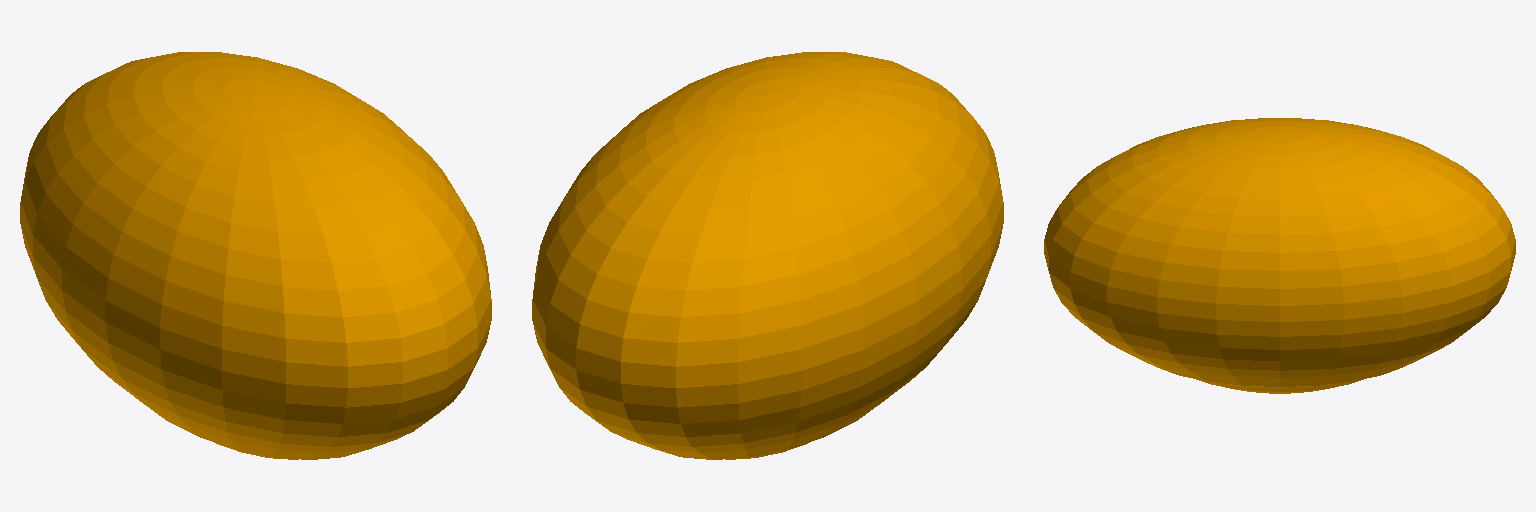
robot.urdf — mesh_object:
<robot name="mesh_object">
            <link name="base">
                <visual>
                    <geometry>
                        <mesh filename="ball_4_v000.obj" scale="1 1 1" />
                    </geometry>
                </visual>
                <collision>
                    <geometry>
                        <mesh filename="ball_4_v000.obj" scale="1 1 1" />
                    </geometry>
                </collision>
                <inertial>
                    <origin xyz="0.000000 0.000000 0.021391" rpy="0 0 0" />
                    <mass value="0.500000" />
                    <inertia ixx="0.01" iyy="0.01" izz="0.01" ixy="0" ixz="0" iyz="0" />
                </inertial>
            </link>
            </robot>

--- Render facts (derived) ---
Views: 3 orthographic renders of the robot side by side, from view 1: azimuth 30°, elevation 25°; view 2: azimuth 150°, elevation 25°; view 3: azimuth 270°, elevation 25°.
Robot: mesh_object — 1 links, 0 joints (none); root link base; default pose: every joint at zero.
Links seen in each view (by area): view 1: base; view 2: base; view 3: base.
Link boxes in pixels (box(x1,y1,x2,y2)): base: box(20, 52, 491, 459); base: box(532, 52, 1003, 459); base: box(1044, 118, 1515, 393).
Size in the robot's own frame: 0.0589 by 0.0937 by 0.055 metres.
1 mesh visuals loaded from 1 distinct referenced files (1 OBJ).
